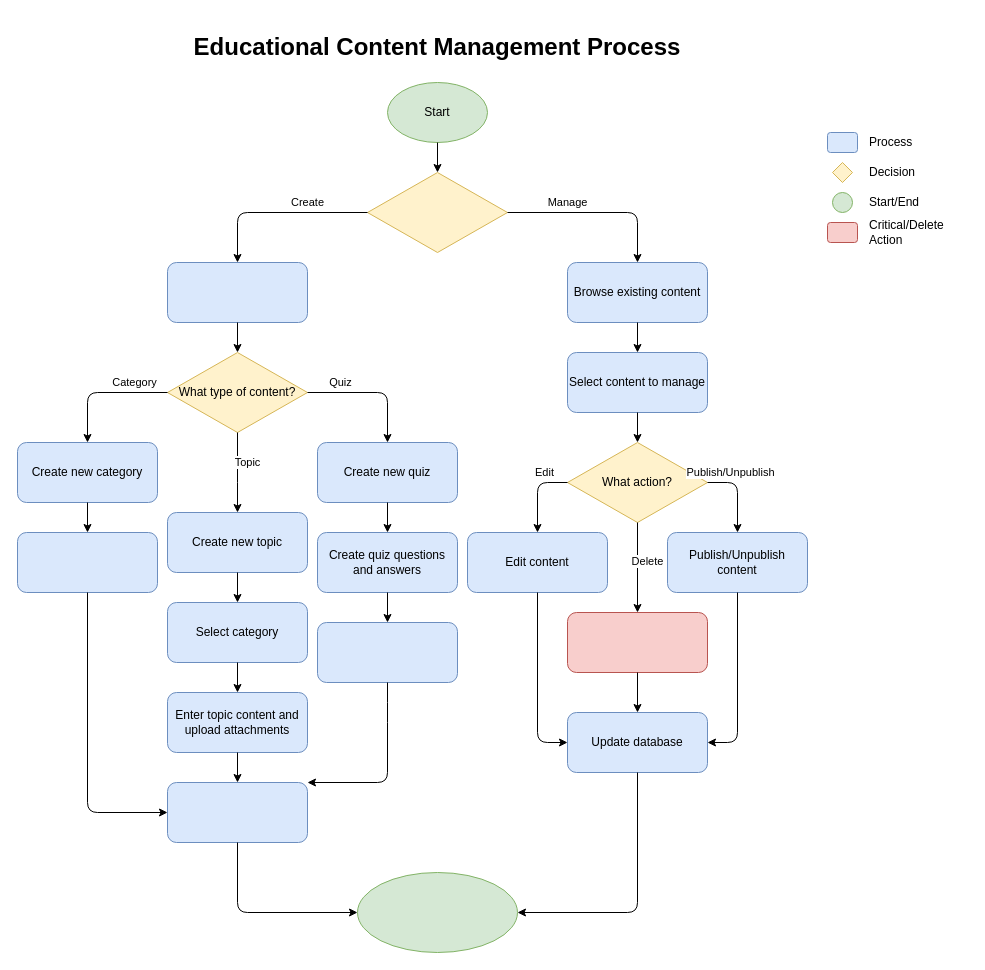
Some shapes in this 985 by 970 pixel diagram are drawn without their labels. The centre of each missing label's shape, as x and y in pixels:
"Create or manage content?" belongs at (x=437, y=212).
"Delete content" belongs at (x=637, y=642).
"End: Content Management Complete" belongs at (x=437, y=912).
"Enter category title and description" belongs at (x=87, y=562).
"Save and publish content" belongs at (x=237, y=812).
"Select content type" belongs at (x=237, y=292).
"Set passing score and link to topic (optional)" belongs at (x=387, y=652).
